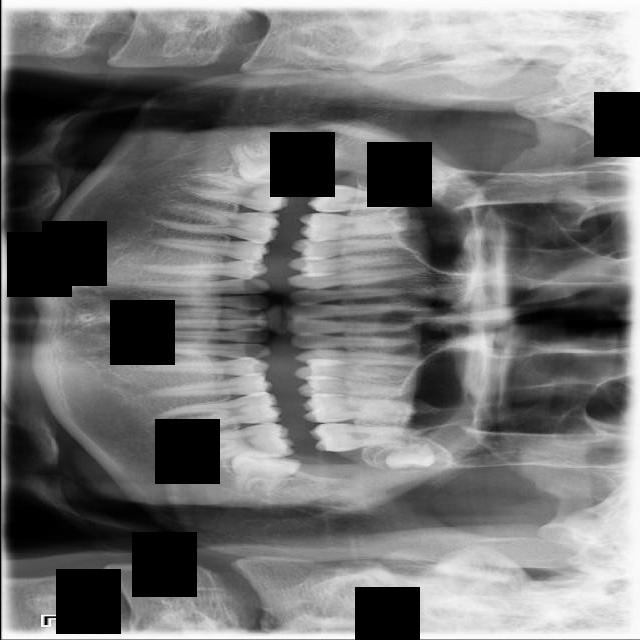3M ESPE Implant: (371, 158, 445, 203)
73: (73, 606, 77, 611)
BioHorizons Implant: (310, 423, 421, 452)
BioLife Implant: (384, 438, 435, 470)
Biomet 3i Implant: (229, 449, 301, 495)
Blue Sky Bio Implant: (179, 420, 295, 464)
Caries: (306, 178, 430, 214)
Implant: (183, 170, 296, 215)
Keystone Dental Implant: (230, 133, 309, 188)
